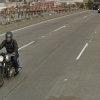Motorcycle: (0, 31, 27, 93)
